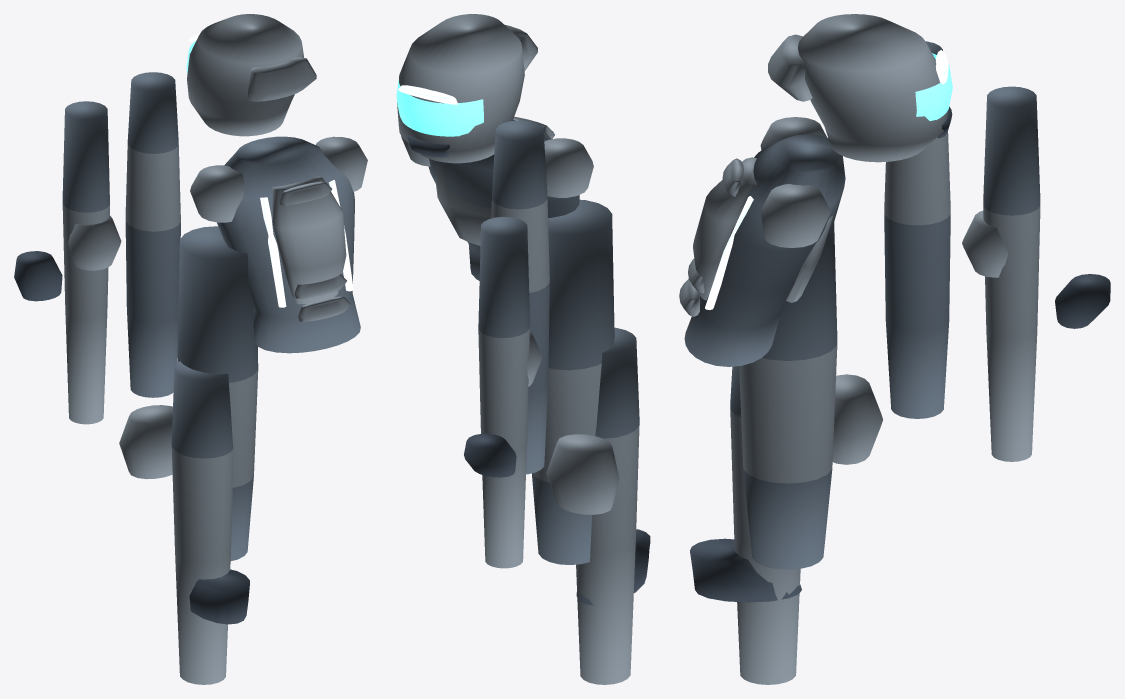
Rendered from pilot.glb.
The picture shows the model from 3 angles, left to right: view 1: azimuth 30°, elevation 25°; view 2: azimuth 150°, elevation 25°; view 3: azimuth 270°, elevation 25°; orthographic projection. The views are drawn at different scales.
Visible parts, largest first — view 1: torso, upper-arm, shin, thigh, forearm, head, knee-pad, boot, elbow-pad, gauntlet; view 2: thigh, head, forearm, shin, upper-arm, torso, knee-pad, gauntlet, boot, elbow-pad; view 3: torso, thigh, head, forearm, upper-arm, shin, boot, knee-pad, gauntlet, elbow-pad.
Boxes of the visible parts, bbox=[...] form: torso: bbox=[190, 136, 367, 353]; upper-arm: bbox=[125, 72, 180, 397]; shin: bbox=[171, 361, 233, 684]; thigh: bbox=[177, 226, 258, 560]; forearm: bbox=[62, 101, 109, 424]; head: bbox=[186, 14, 316, 136]; knee-pad: bbox=[119, 405, 172, 479]; boot: bbox=[189, 569, 249, 624]; elbow-pad: bbox=[68, 215, 121, 270]; gauntlet: bbox=[14, 251, 62, 301]; thigh: bbox=[532, 199, 614, 564]; head: bbox=[396, 14, 537, 163]; forearm: bbox=[478, 216, 529, 568]; shin: bbox=[576, 327, 639, 684]; upper-arm: bbox=[491, 120, 549, 474]; torso: bbox=[401, 116, 593, 280]; knee-pad: bbox=[546, 434, 619, 514]; gauntlet: bbox=[464, 433, 516, 477]; boot: bbox=[576, 529, 650, 605]; elbow-pad: bbox=[527, 331, 542, 386]; torso: bbox=[679, 117, 845, 366]; thigh: bbox=[739, 222, 837, 569]; head: bbox=[768, 14, 952, 162]; forearm: bbox=[983, 86, 1040, 461]; upper-arm: bbox=[884, 41, 950, 418]; shin: bbox=[730, 366, 800, 684]; boot: bbox=[690, 538, 801, 602]; knee-pad: bbox=[832, 374, 882, 464]; gauntlet: bbox=[1055, 274, 1110, 328]; elbow-pad: bbox=[962, 210, 1008, 277].
Bounding box in the file's own units: 0.7622 × 1.95 × 1.1.
